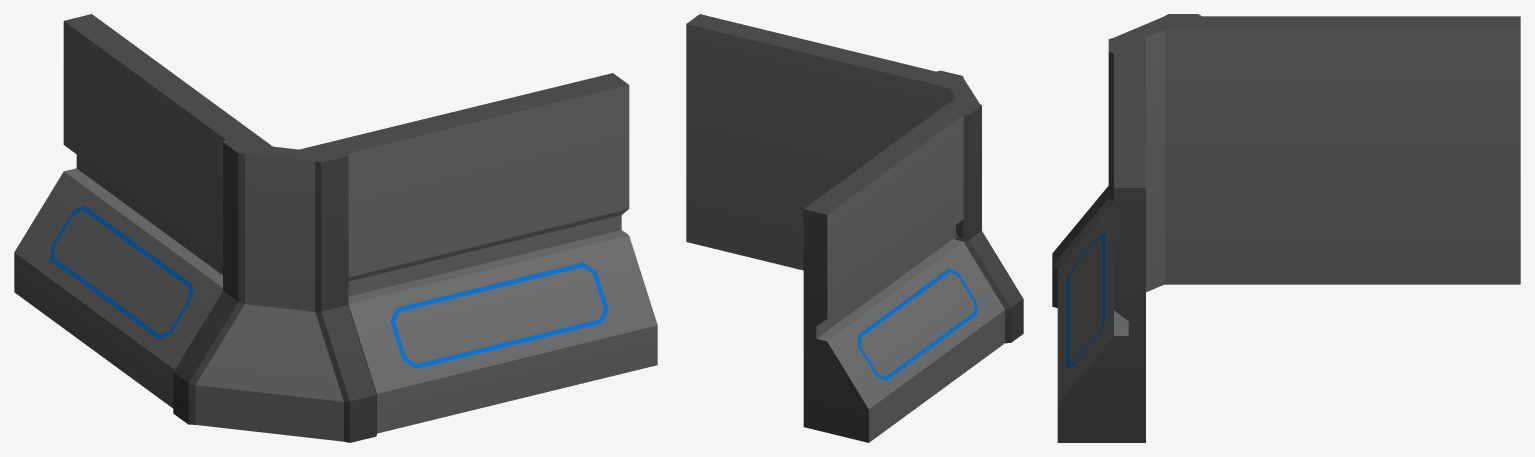
File: Wall_type_B_024.fbx
The picture shows the model from 3 angles, left to right: view 1: azimuth 30°, elevation 25°; view 2: azimuth 150°, elevation 25°; view 3: azimuth 270°, elevation 25°; orthographic projection. The views are drawn at different scales.
Parts seen in each view (by area): view 1: Wall_type_B_024; view 2: Wall_type_B_024; view 3: Wall_type_B_024.
Part boxes in pixels (left/top/right/bottom): Wall_type_B_024: left=14, top=14, right=657, bottom=442; Wall_type_B_024: left=686, top=14, right=1023, bottom=442; Wall_type_B_024: left=1052, top=14, right=1520, bottom=442.
Size of the model in its own units: 250 by 250 by 150.
